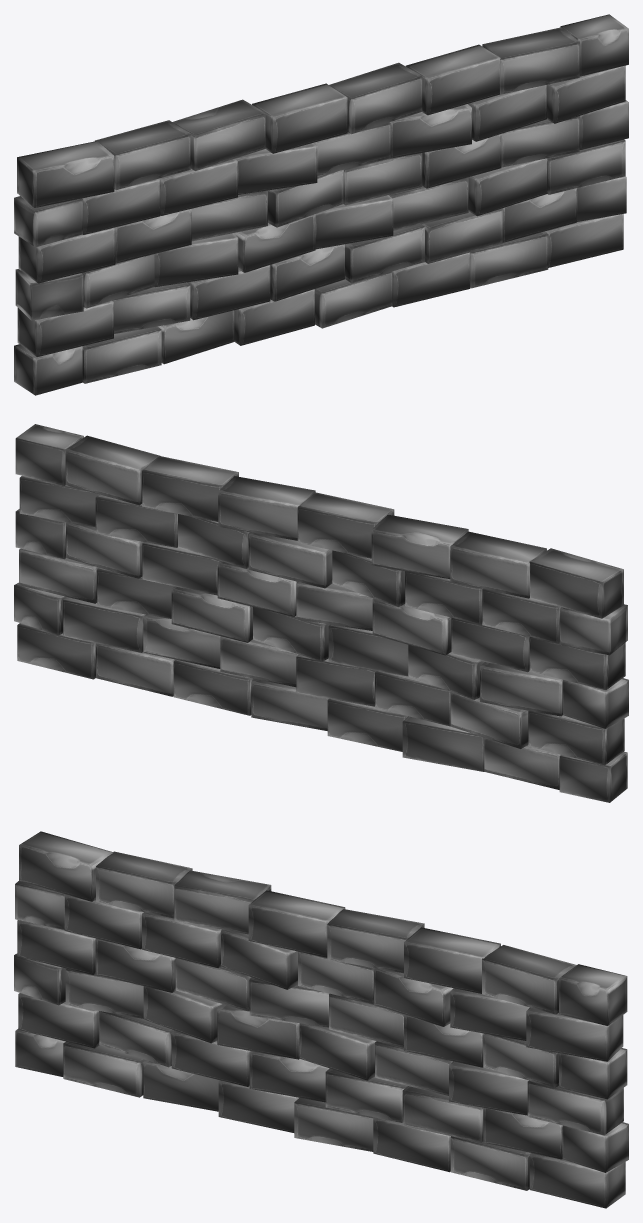
The model's file is brick_wall_4.fbx.
3 renders of one model, top to bottom at view 1: azimuth 30°, elevation 25°; view 2: azimuth 150°, elevation 25°; view 3: azimuth 330°, elevation 25°, orthographic.
Visible parts, largest first — view 1: brick_wall_4; view 2: brick_wall_4; view 3: brick_wall_4.
Boxes of the visible parts, x1=… form: brick_wall_4: x1=14, y1=14, x2=628, y2=395; brick_wall_4: x1=14, y1=424, x2=628, y2=802; brick_wall_4: x1=14, y1=831, x2=628, y2=1208.
Bounding box in the file's own units: 6.05 × 2.14 × 0.5127.
